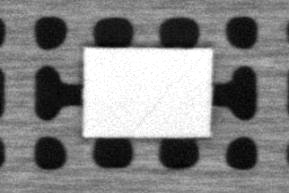DIE_CRACK: (136, 54, 205, 127)
